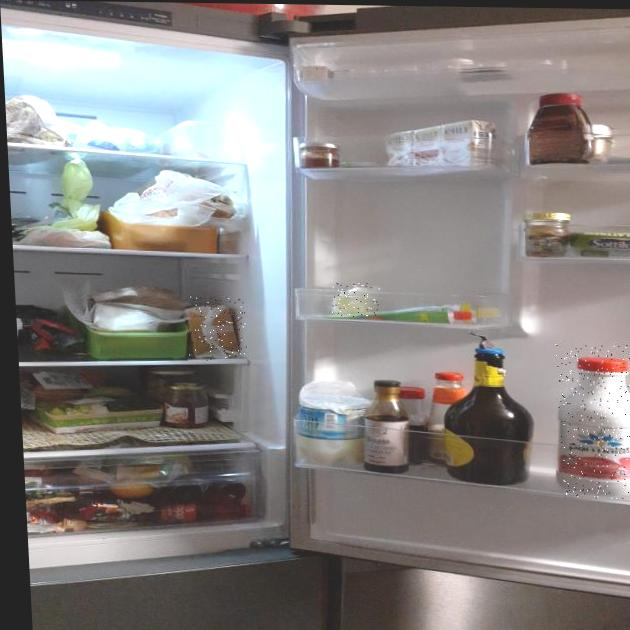cheese: (185, 297, 248, 362), (330, 283, 382, 317)
milk: (555, 344, 630, 500)
